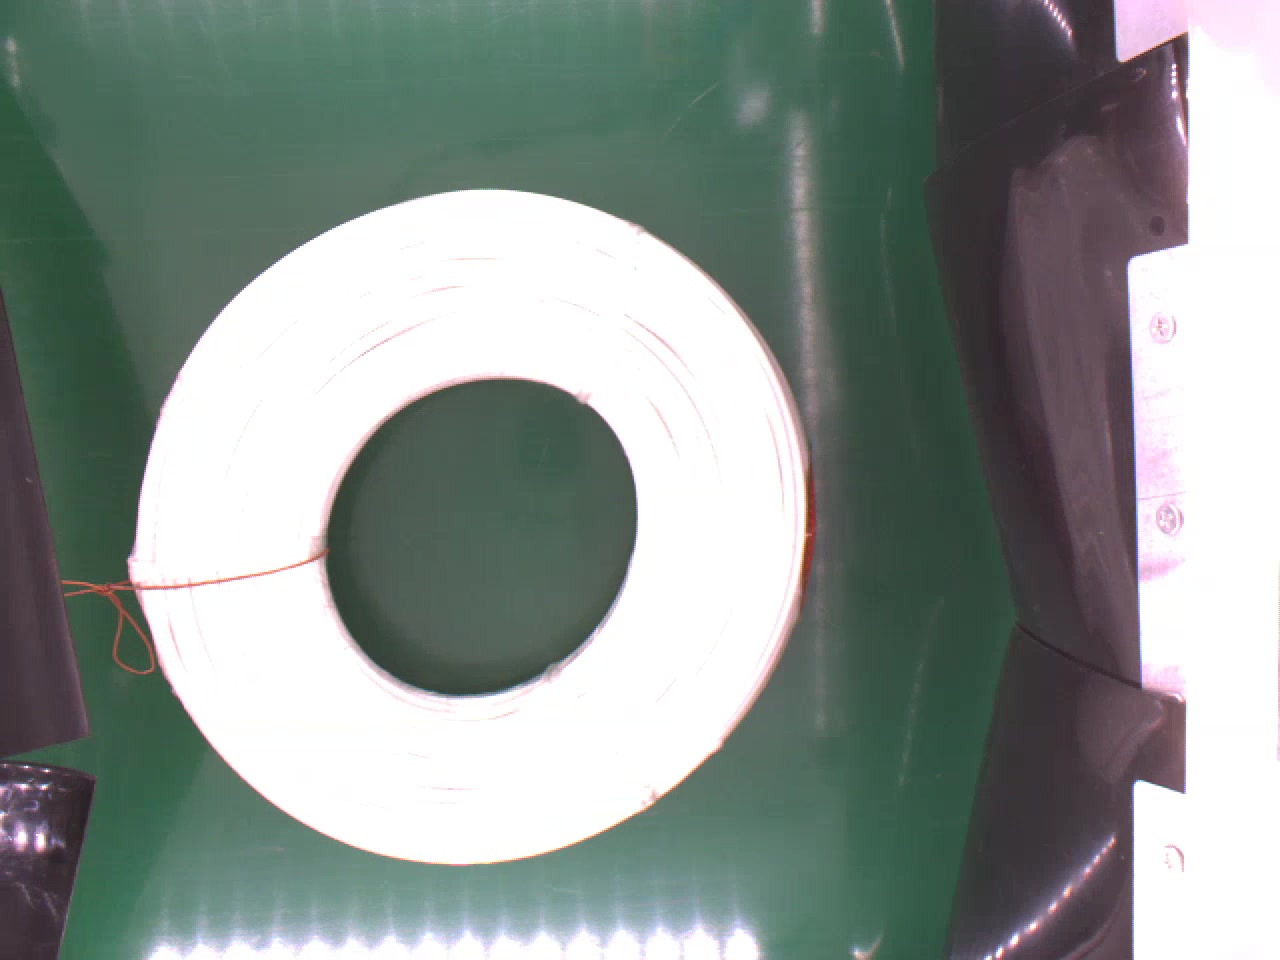white: (123, 179, 807, 864)
